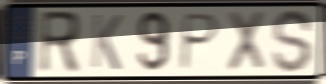9: (135, 8, 172, 76)
K: (89, 11, 125, 72)
P: (177, 11, 222, 73)
R: (36, 9, 82, 76)
S: (270, 7, 316, 75)
X: (224, 8, 269, 74)
